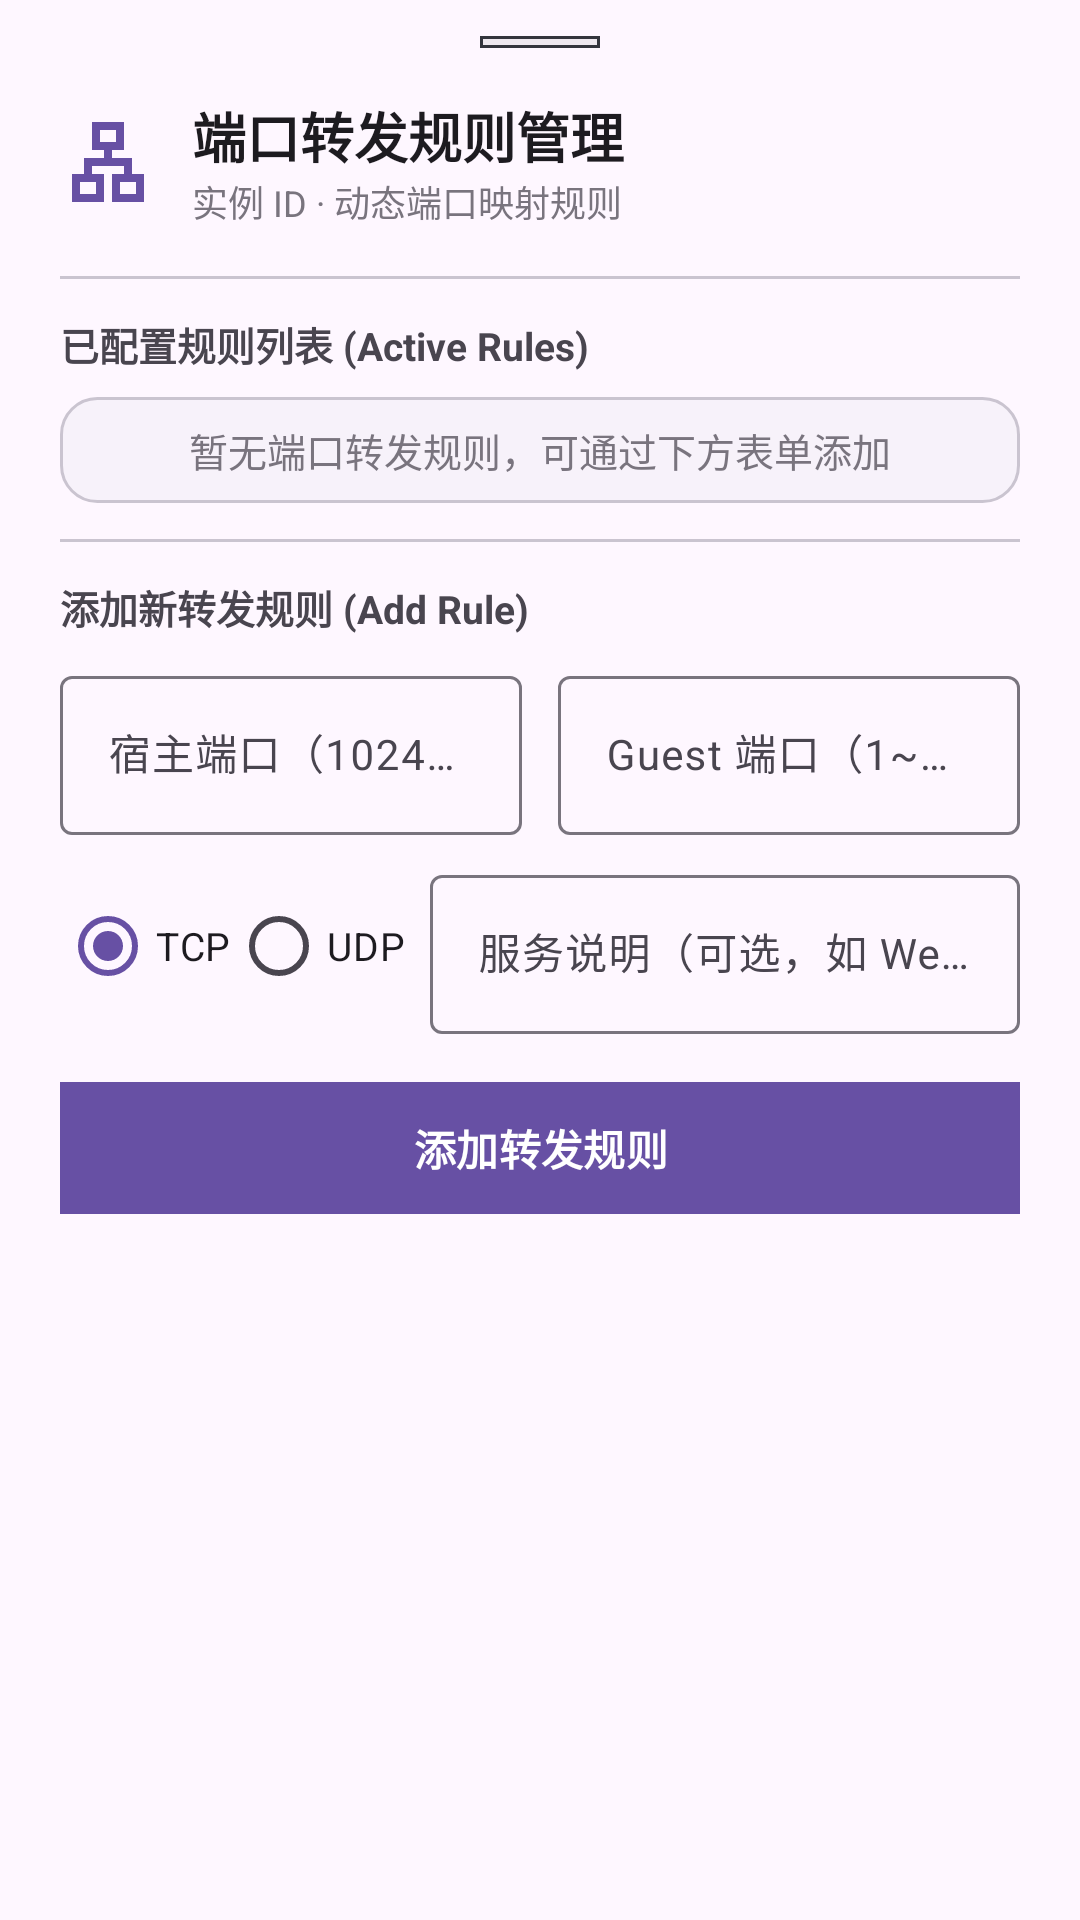

Icon click points for this 1080px×1920px phone screenshot, format [x,y]:
sym lan: [108,162]
